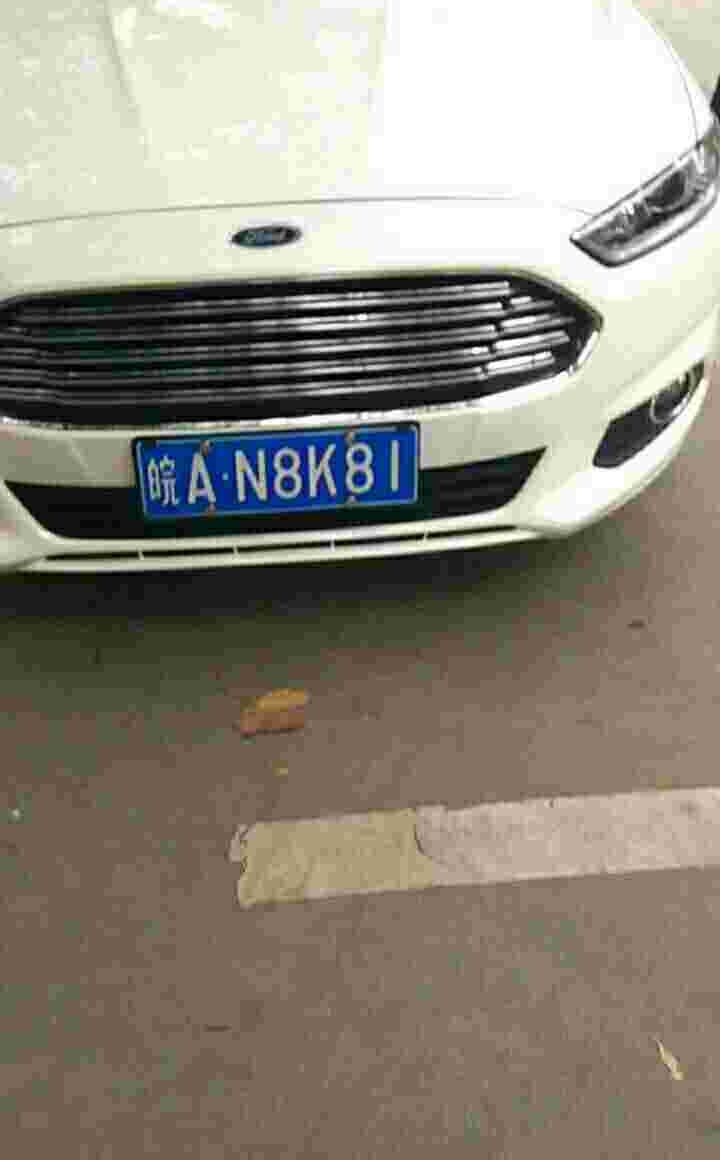car: (119, 429, 424, 506)
